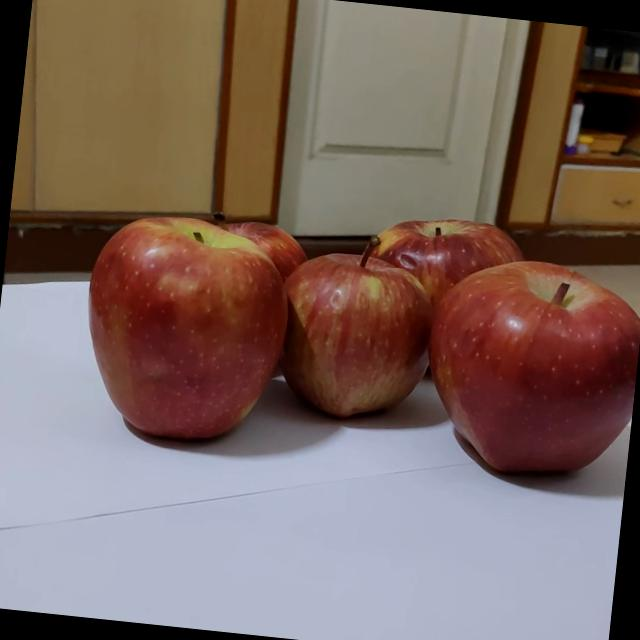apple: (382, 259, 640, 529), (340, 205, 553, 411), (49, 218, 254, 430), (232, 250, 416, 433), (164, 207, 318, 358)
